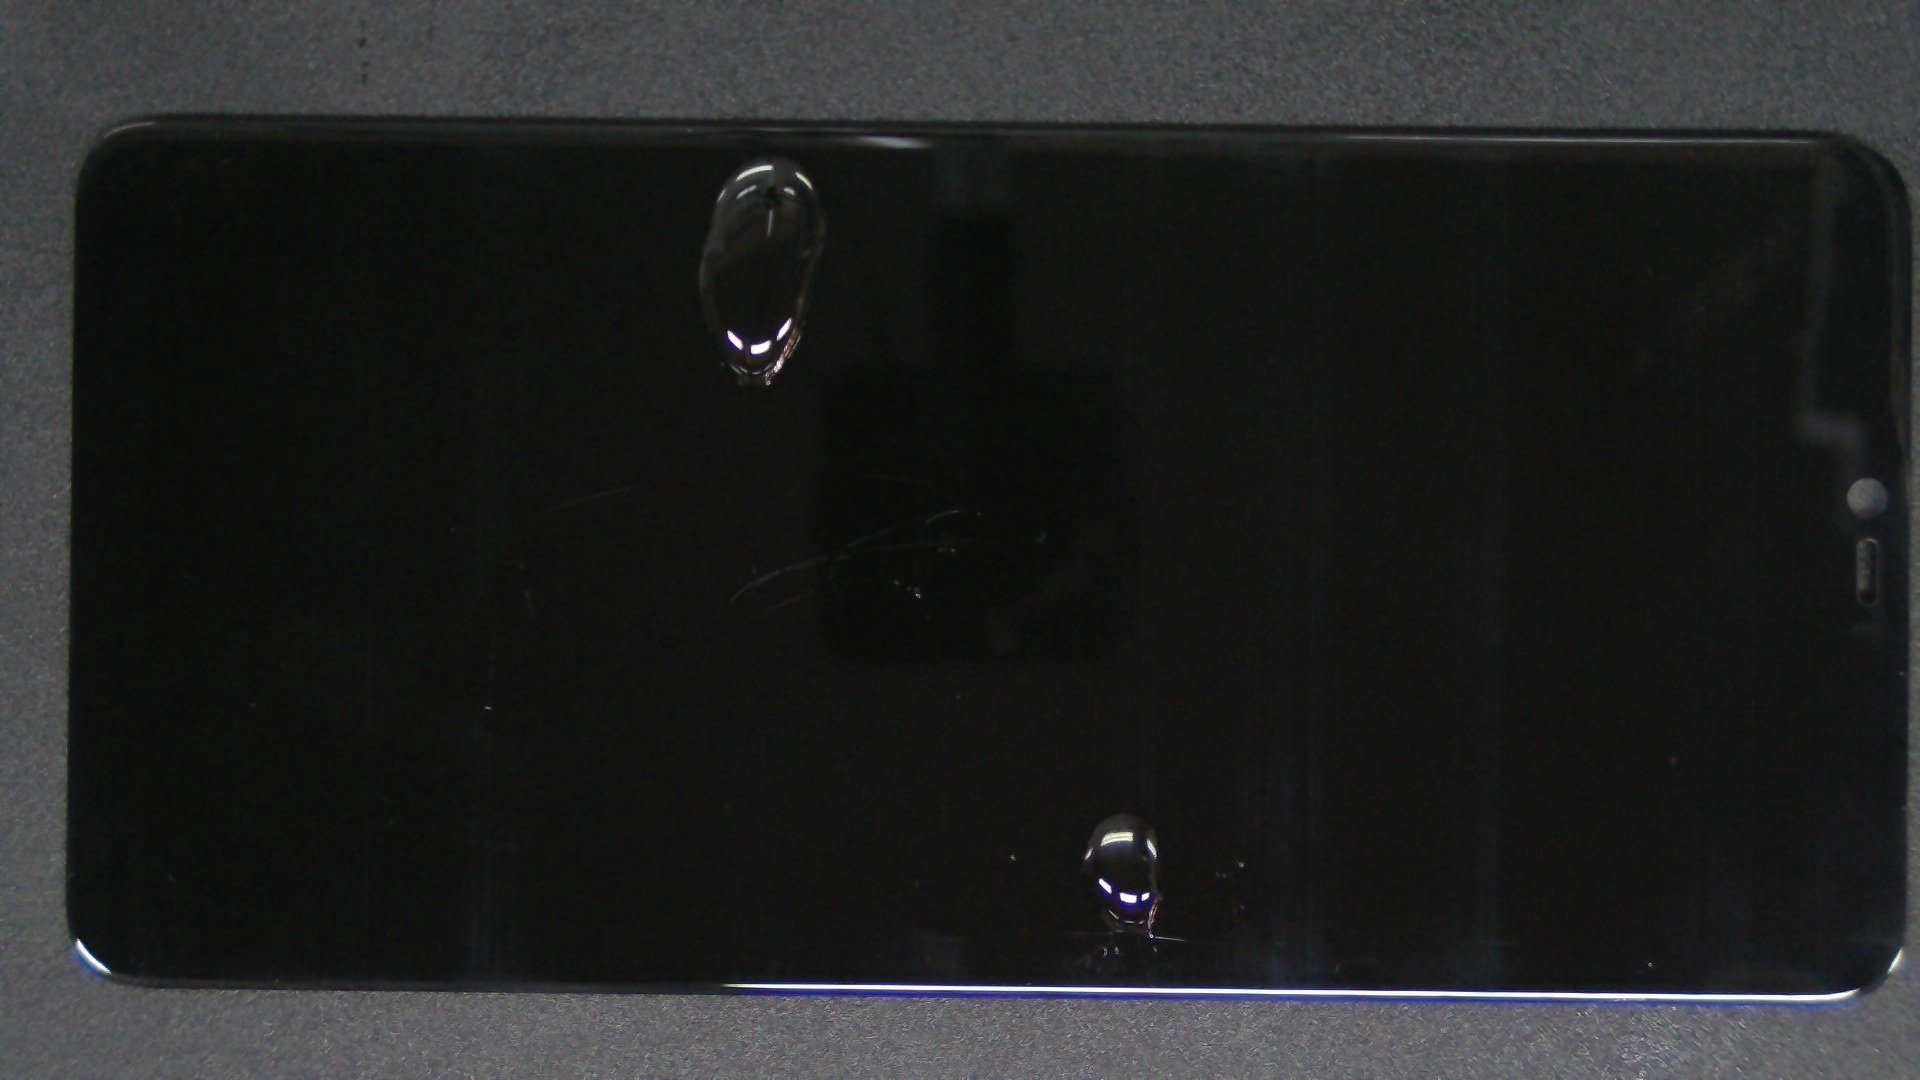oil: (564, 406, 1693, 1080), (390, 78, 1168, 235)
